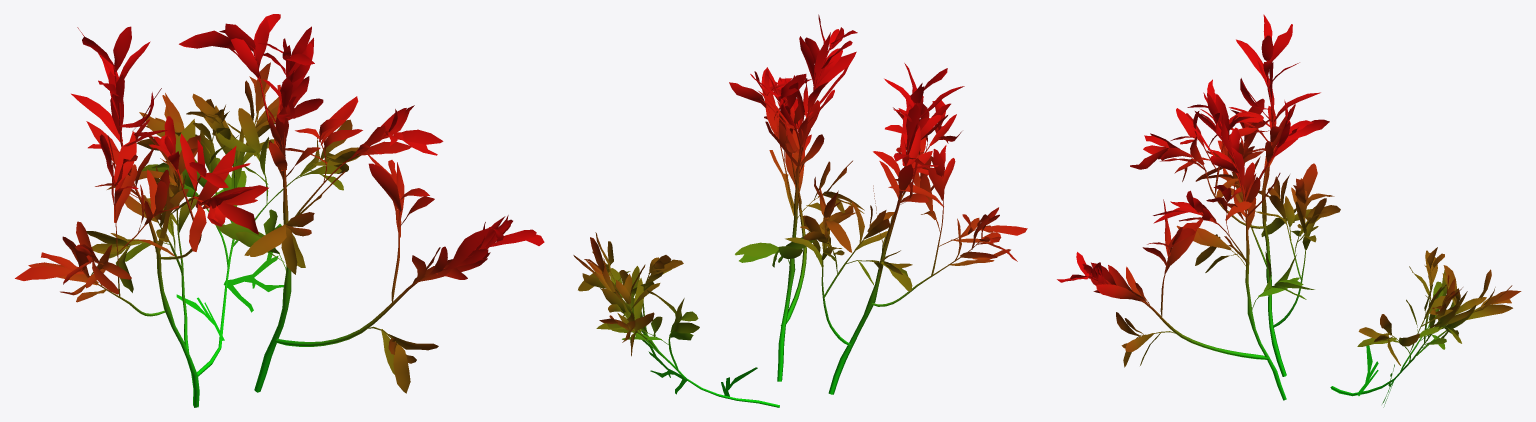
Rendered from Downy Willow_LOD1_Var11_wknlfiuqx.fbx.
The picture shows the model from 3 angles, left to right: view 1: azimuth 30°, elevation 25°; view 2: azimuth 150°, elevation 25°; view 3: azimuth 270°, elevation 25°; orthographic projection. The views are drawn at different scales.
Parts seen in each view (by area): view 1: _d8ey_Var11_LOD1; view 2: _d8ey_Var11_LOD1; view 3: _d8ey_Var11_LOD1.
Part boxes in pixels (box(x1,y1,x2,y2)): _d8ey_Var11_LOD1: box(15, 14, 544, 407); _d8ey_Var11_LOD1: box(573, 14, 1027, 407); _d8ey_Var11_LOD1: box(1057, 14, 1521, 407).
Bounding box in the file's own units: 50.82 × 46.6 × 62.08.
